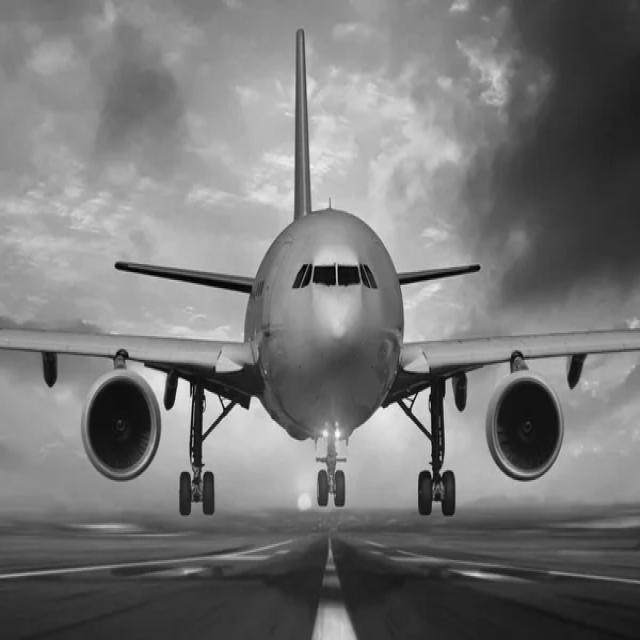Aircraft: (0, 69, 626, 531)
